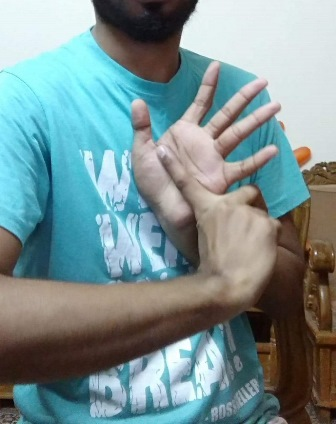oo: (138, 57, 284, 291)
